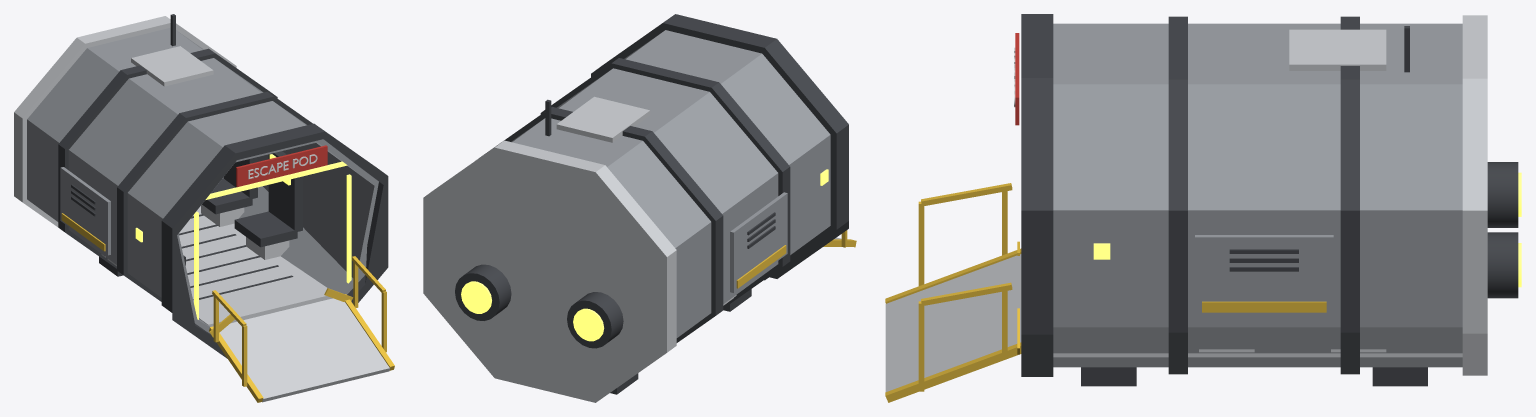
Rendered from FV_EscapePod.fbx.
3 renders of one model, left to right at view 1: azimuth 30°, elevation 25°; view 2: azimuth 150°, elevation 25°; view 3: azimuth 270°, elevation 25°, orthographic. The views are drawn at different scales.
Visible parts, largest first — view 1: EscapePod; view 2: EscapePod; view 3: EscapePod.
Boxes of the visible parts, x1,y1,x2,y2 form: EscapePod: (14,14,394,402); EscapePod: (423,14,856,402); EscapePod: (885,14,1521,402).
Bounding box in the file's own units: 2.79 × 2.75 × 4.59.
